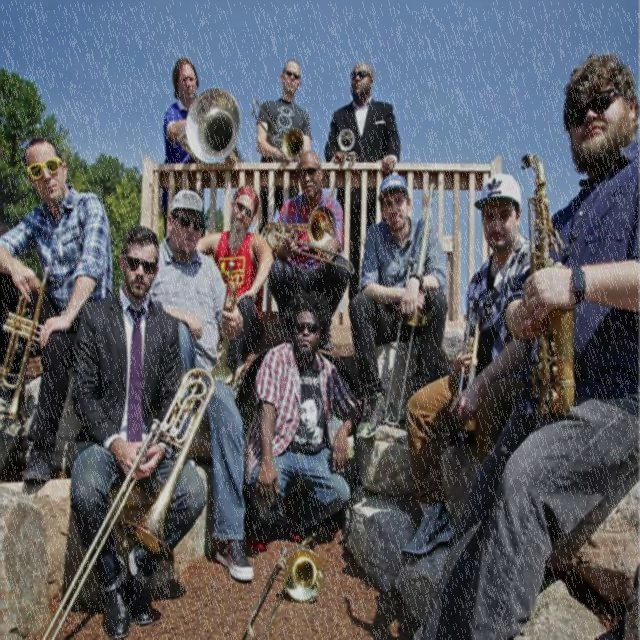pessoa: (411, 52, 639, 638), (63, 222, 210, 640), (400, 172, 535, 560), (147, 188, 256, 583), (0, 134, 115, 487), (243, 287, 364, 553), (348, 174, 450, 441), (257, 147, 354, 355), (323, 58, 401, 306), (196, 185, 276, 382), (255, 58, 313, 238), (161, 56, 209, 248)
